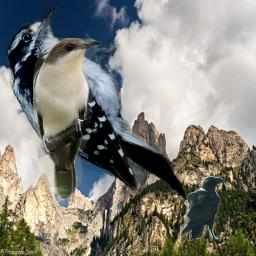Crow: (180, 176, 225, 241)
Cuckoo: (33, 38, 102, 202)
Woodpecker: (3, 7, 191, 200)
